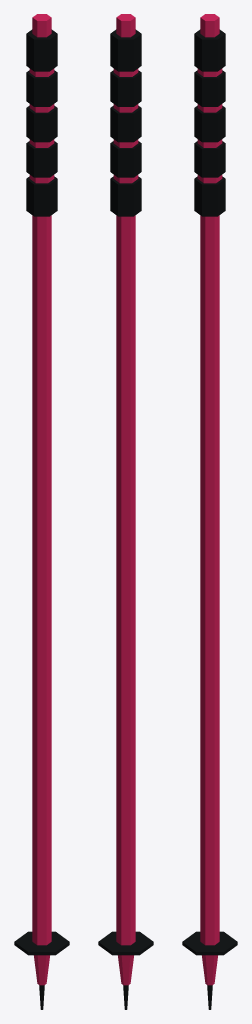
File: Skier_1_Poles_Right.fbx
3 views of the same model, side by side, from view 1: azimuth 30°, elevation 25°; view 2: azimuth 150°, elevation 25°; view 3: azimuth 330°, elevation 25° (orthographic).
Parts seen in each view (by area): view 1: Skier_1_Poles_Right; view 2: Skier_1_Poles_Right; view 3: Skier_1_Poles_Right.
Part boxes in pixels (x1,y1,x2,y2): Skier_1_Poles_Right: [14, 14, 69, 1009]; Skier_1_Poles_Right: [98, 14, 153, 1009]; Skier_1_Poles_Right: [182, 14, 237, 1009].
Size of the model in its own units: 6.01 by 137 by 6.94.
